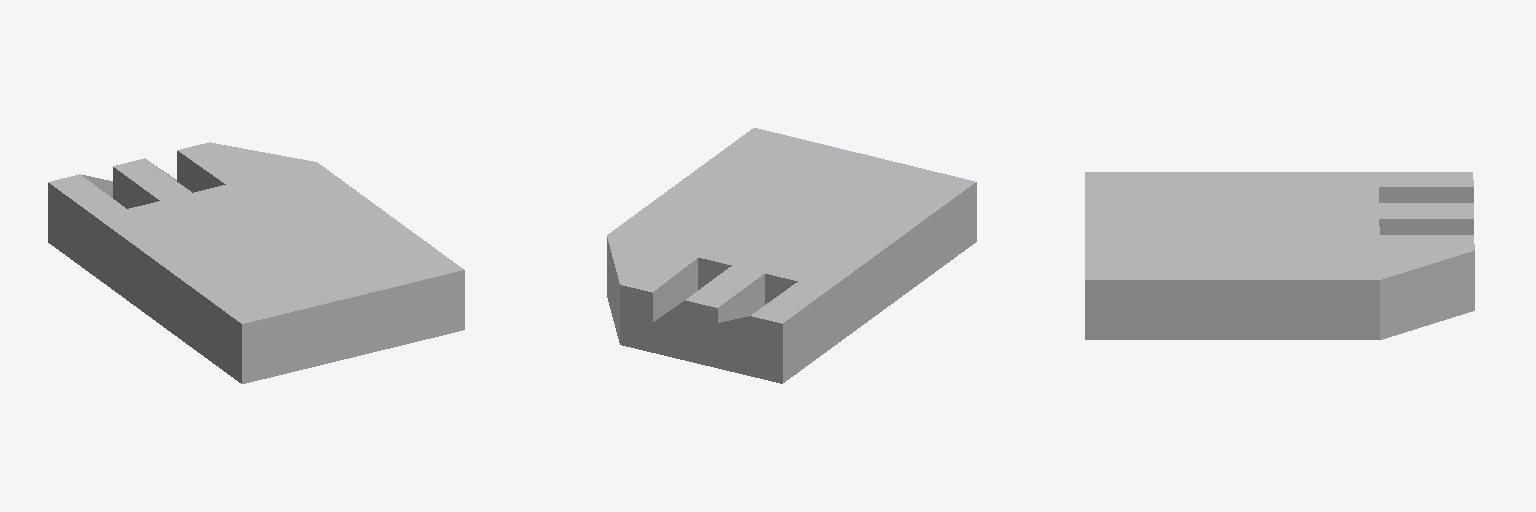
3 renders of one model, left to right at view 1: azimuth 30°, elevation 25°; view 2: azimuth 150°, elevation 25°; view 3: azimuth 270°, elevation 25°, orthographic.
Visible parts, largest first — view 1: Куб; view 2: Куб; view 3: Куб.
Part boxes in pixels (bbox=[...]): Куб: bbox=[48, 142, 464, 383]; Куб: bbox=[607, 128, 976, 383]; Куб: bbox=[1085, 172, 1474, 339].
Size of the model in its own units: 0.7838 by 0.2028 by 1.19.